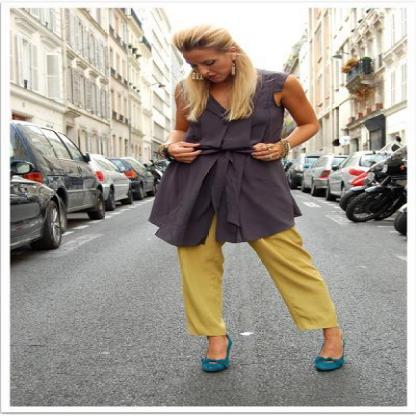pants: (177, 225, 337, 335)
shirt: (155, 75, 301, 248)
shoe: (201, 358, 344, 375)
